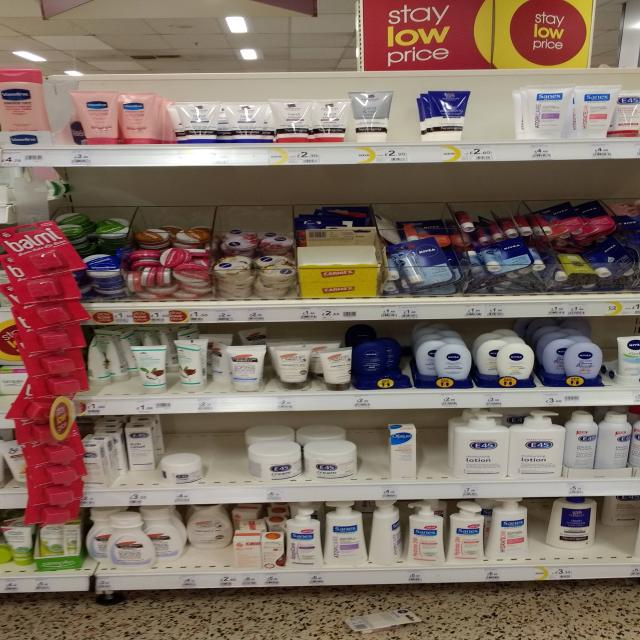void: (463, 83, 512, 163), (205, 426, 243, 503), (424, 411, 449, 498), (364, 427, 384, 499)
